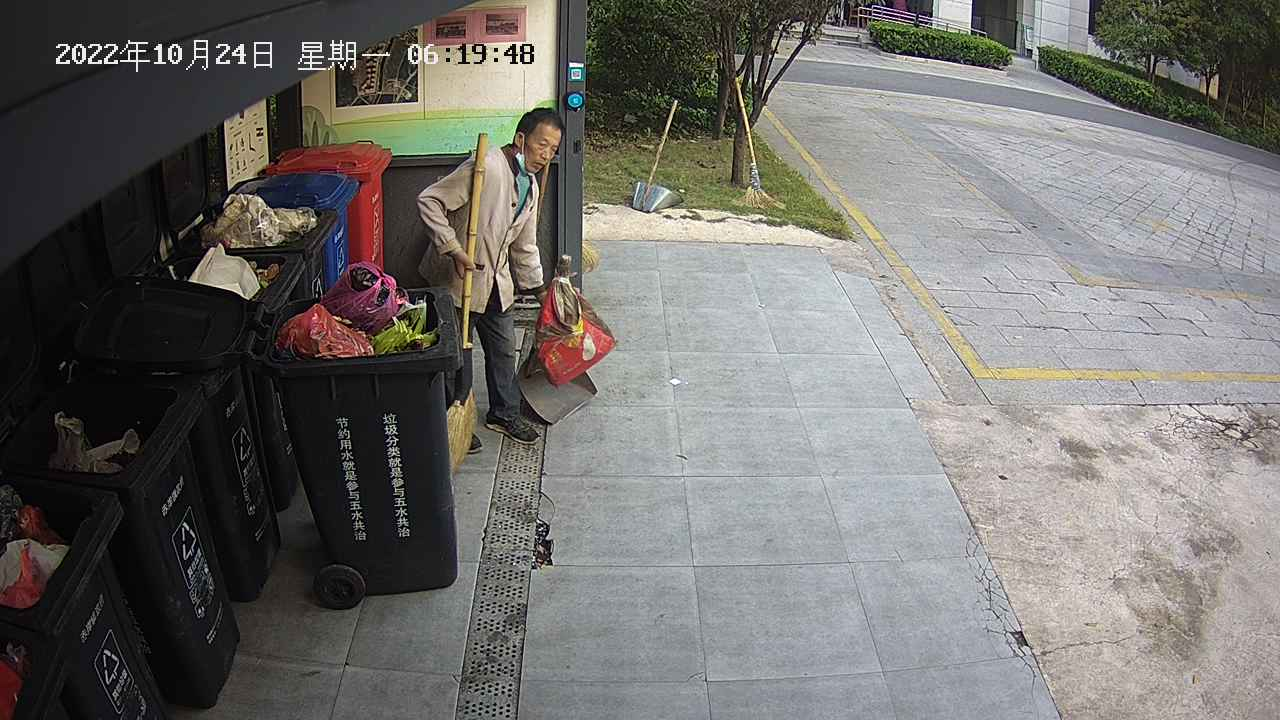garbage-bag: (530, 261, 622, 390)
person: (408, 101, 569, 456)
